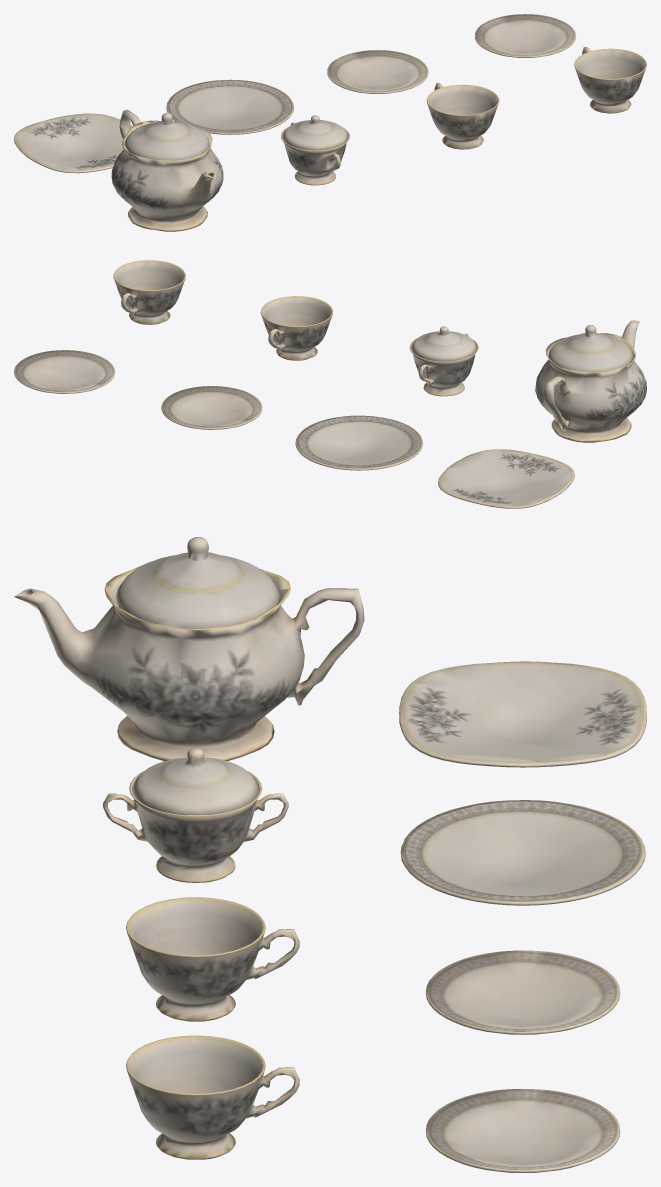
The model's file is tea_set_01.glb.
3 views of the same model, one above another, from view 1: azimuth 30°, elevation 25°; view 2: azimuth 150°, elevation 25°; view 3: azimuth 270°, elevation 25° (orthographic). The views are drawn at different scales.
Parts seen in each view (by area): view 1: tea_set_01_teapot_01, tea_set_01_plate_large_circular_03, tea_set_01_plate_large_square_01, tea_set_01_cup_small_01, tea_set_01_cup_small_02, tea_set_01_saucer_circular_04, tea_set_01_saucer_circular_03, tea_set_01_teapot_01_lid, tea_set_01_sugar_cup_01, tea_set_01_sugar_cup_01_lid; view 2: tea_set_01_teapot_01, tea_set_01_plate_large_square_01, tea_set_01_plate_large_circular_03, tea_set_01_cup_small_02, tea_set_01_cup_small_01, tea_set_01_saucer_circular_04, tea_set_01_saucer_circular_03, tea_set_01_teapot_01_lid, tea_set_01_sugar_cup_01, tea_set_01_sugar_cup_01_lid; view 3: tea_set_01_teapot_01, tea_set_01_plate_large_square_01, tea_set_01_plate_large_circular_03, tea_set_01_cup_small_01, tea_set_01_cup_small_02, tea_set_01_saucer_circular_04, tea_set_01_saucer_circular_03, tea_set_01_teapot_01_lid, tea_set_01_sugar_cup_01, tea_set_01_sugar_cup_01_lid.
Part boxes in pixels (x1,y1,x2,y2): tea_set_01_teapot_01: [111, 109, 223, 231]; tea_set_01_plate_large_circular_03: [166, 79, 293, 134]; tea_set_01_plate_large_square_01: [14, 113, 132, 173]; tea_set_01_cup_small_01: [426, 83, 499, 149]; tea_set_01_cup_small_02: [574, 47, 646, 113]; tea_set_01_saucer_circular_04: [327, 50, 428, 93]; tea_set_01_saucer_circular_03: [474, 14, 575, 57]; tea_set_01_teapot_01_lid: [124, 112, 209, 160]; tea_set_01_sugar_cup_01: [281, 122, 349, 185]; tea_set_01_sugar_cup_01_lid: [282, 115, 348, 150]; tea_set_01_teapot_01: [535, 320, 646, 442]; tea_set_01_plate_large_square_01: [438, 449, 574, 508]; tea_set_01_plate_large_circular_03: [295, 415, 422, 470]; tea_set_01_cup_small_02: [113, 260, 185, 324]; tea_set_01_cup_small_01: [260, 296, 332, 360]; tea_set_01_saucer_circular_04: [161, 386, 262, 429]; tea_set_01_saucer_circular_03: [14, 350, 115, 393]; tea_set_01_teapot_01_lid: [548, 325, 633, 371]; tea_set_01_sugar_cup_01: [409, 333, 478, 396]; tea_set_01_sugar_cup_01_lid: [411, 326, 477, 361]; tea_set_01_teapot_01: [14, 565, 364, 761]; tea_set_01_plate_large_square_01: [399, 661, 646, 767]; tea_set_01_plate_large_circular_03: [400, 800, 645, 905]; tea_set_01_cup_small_01: [126, 897, 299, 1021]; tea_set_01_cup_small_02: [126, 1035, 299, 1159]; tea_set_01_saucer_circular_04: [425, 950, 620, 1034]; tea_set_01_saucer_circular_03: [425, 1089, 620, 1172]; tea_set_01_teapot_01_lid: [116, 537, 279, 628]; tea_set_01_sugar_cup_01: [103, 771, 288, 882]; tea_set_01_sugar_cup_01_lid: [131, 748, 259, 815].
Bounding box in the file's own units: 0.9183 × 0.165 × 0.4836.
1 material, 1 textured.
